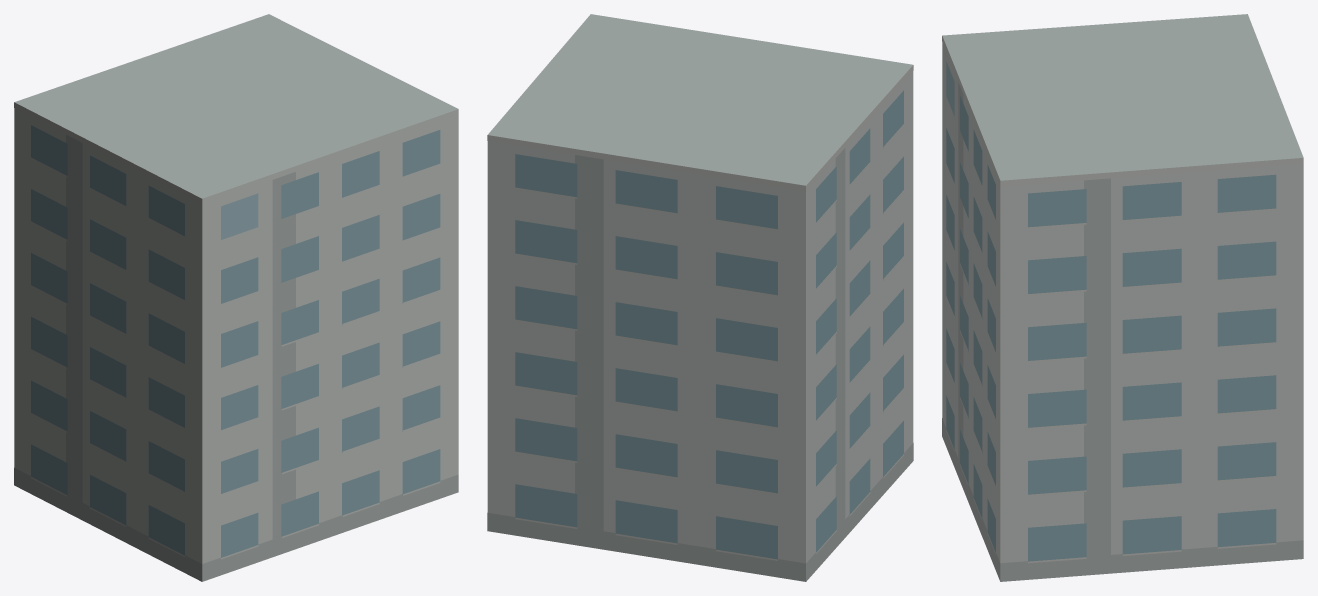
File: survey-upis-32830326.glb
3 renders of one model, left to right at view 1: azimuth 30°, elevation 25°; view 2: azimuth 150°, elevation 25°; view 3: azimuth 270°, elevation 25°, orthographic. The views are drawn at different scales.
Parts seen in each view (by area): view 1: survey-upis-32830326.tmp; view 2: survey-upis-32830326.tmp; view 3: survey-upis-32830326.tmp.
Part boxes in pixels (x1,y1,x2,y2): survey-upis-32830326.tmp: (14, 14, 458, 581); survey-upis-32830326.tmp: (487, 14, 913, 581); survey-upis-32830326.tmp: (942, 14, 1303, 581).
Size of the model in its own units: 14.54 by 16.3 by 13.32.
